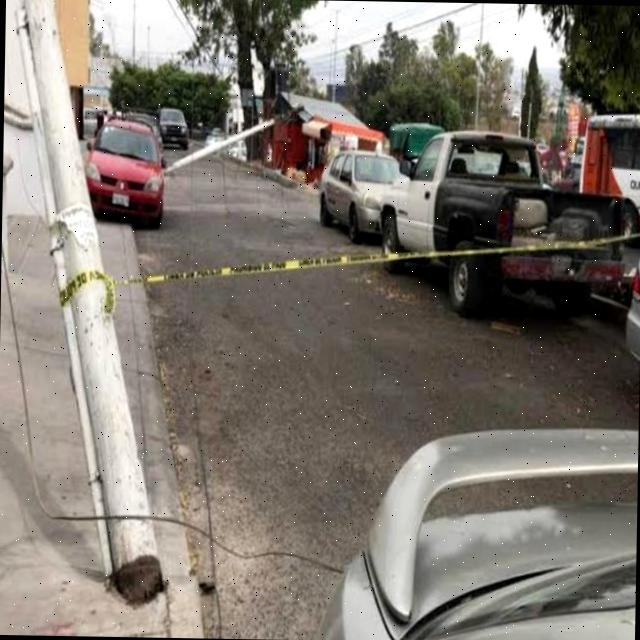Broken Pole: (13, 0, 163, 602)
